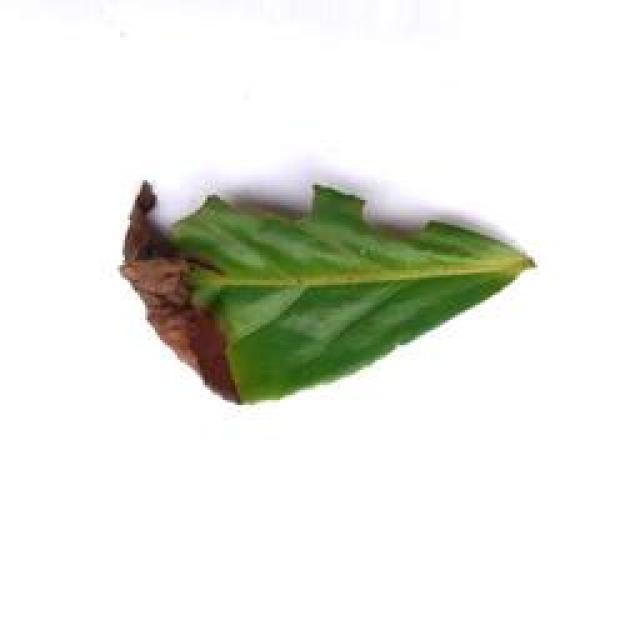Brown Blight: (119, 178, 543, 408)
